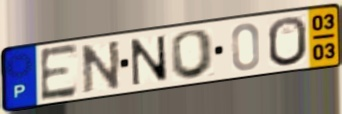0: (230, 21, 262, 72)
E: (38, 41, 80, 104)
N: (79, 38, 123, 96), (128, 34, 171, 88)
O: (169, 28, 217, 81), (266, 15, 310, 69)
